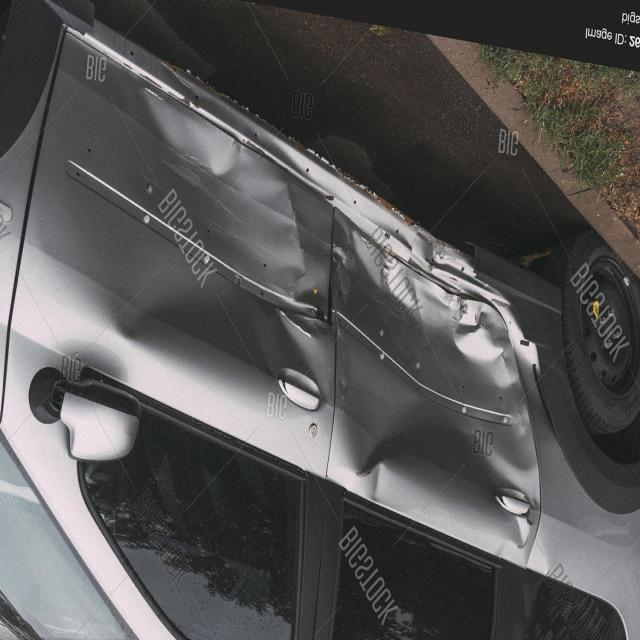dent: (141, 66, 573, 575)
